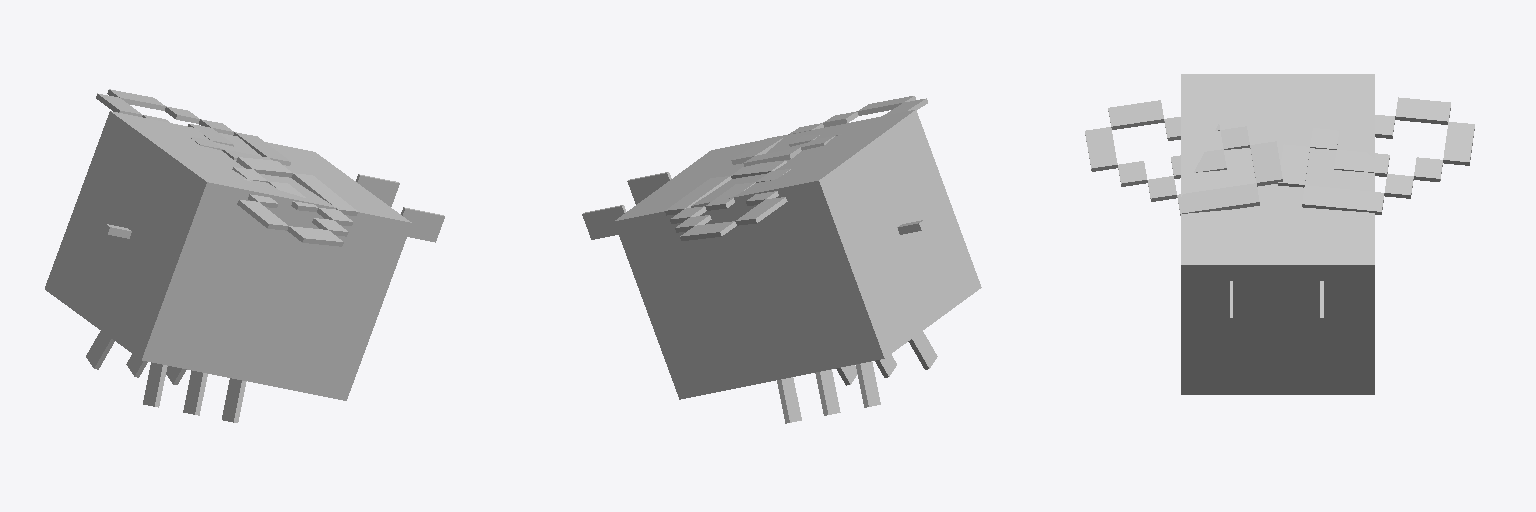
File: Bee_ (122).obj
3 views of the same model, side by side, from view 1: azimuth 30°, elevation 25°; view 2: azimuth 150°, elevation 25°; view 3: azimuth 270°, elevation 25° (orthographic).
Visible parts, largest first — view 1: b_Bee_MAT_0, l_Bee_MAT_0, r_Bee_MAT_0; view 2: b_Bee_MAT_0, r_Bee_MAT_0, l_Bee_MAT_0; view 3: b_Bee_MAT_0, r_Bee_MAT_0, l_Bee_MAT_0.
Boxes of the visible parts, <box> form: b_Bee_MAT_0: <box>45,111,444,422</box>; l_Bee_MAT_0: <box>232,157,357,246</box>; r_Bee_MAT_0: <box>96,89,290,165</box>; b_Bee_MAT_0: <box>582,110,981,423</box>; r_Bee_MAT_0: <box>665,160,790,240</box>; l_Bee_MAT_0: <box>731,96,927,166</box>; b_Bee_MAT_0: <box>1181,74,1374,394</box>; r_Bee_MAT_0: <box>1278,97,1474,214</box>; l_Bee_MAT_0: <box>1085,100,1282,215</box>.
Bounding box in the file's own units: 0.3064 × 0.2394 × 0.3154.